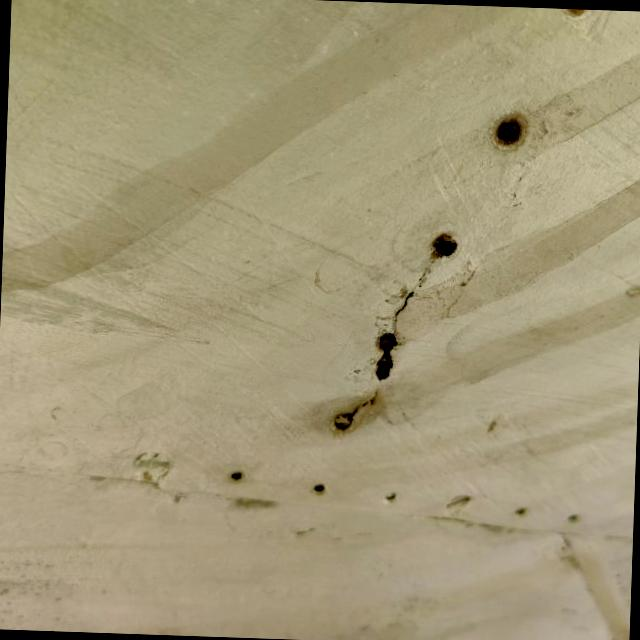crack: (312, 207, 492, 454)
